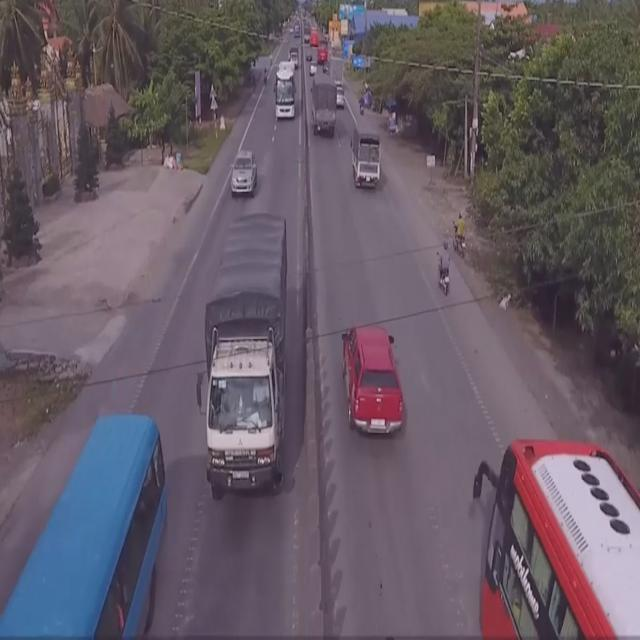bus: (0, 411, 168, 640), (470, 433, 640, 640), (272, 58, 298, 122)
car: (339, 324, 405, 437), (230, 147, 257, 200)
motorbike: (435, 240, 453, 298), (452, 213, 468, 261)
truck: (198, 210, 289, 500), (351, 130, 382, 190), (310, 78, 338, 139)
